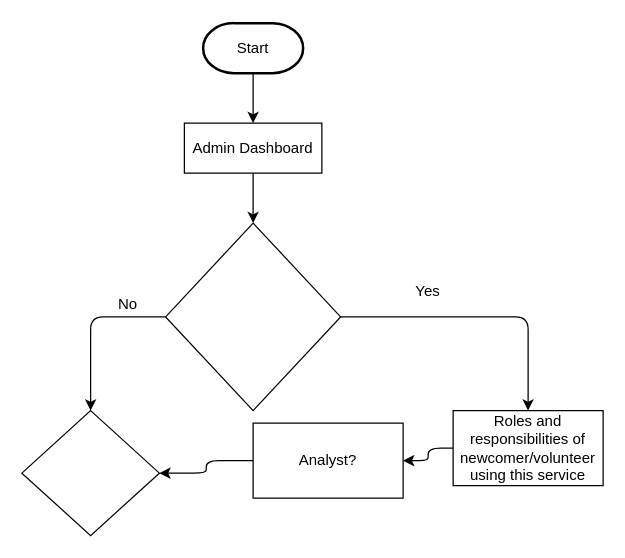
The diagram is 625 pixels wide and 558 high, and some of its shapes have lost their labels. The shapes that lost their labels are listed below. From the top down, each one's box as (x1, y1, x2, y2) in pixels, then its label:
(164, 222, 341, 411): Approve a user
(21, 409, 159, 536): Not approved
